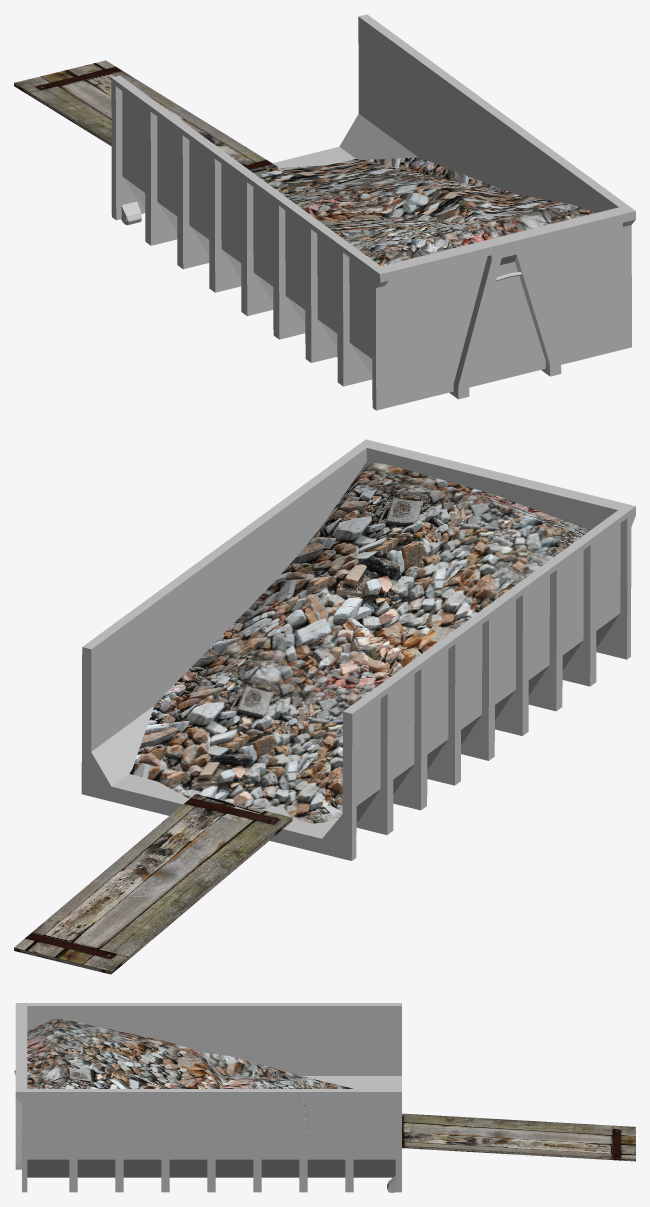
Rendered from DumpsterDirty01.FBX.
3 renders of one model, top to bottom at view 1: azimuth 30°, elevation 25°; view 2: azimuth 150°, elevation 25°; view 3: azimuth 270°, elevation 25°, orthographic. The views are drawn at different scales.
Parts seen in each view (by area): view 1: DumpsterDirty01, DumpsterDirty01Gravel, DumpsterDirty01Wood; view 2: DumpsterDirty01, DumpsterDirty01Gravel, DumpsterDirty01Wood; view 3: DumpsterDirty01, DumpsterDirty01Gravel, DumpsterDirty01Wood.
Boxes of the visible parts, x1,y1,x2,y2 form: DumpsterDirty01: (111, 14, 635, 410); DumpsterDirty01Gravel: (256, 157, 595, 265); DumpsterDirty01Wood: (14, 60, 277, 174); DumpsterDirty01: (81, 439, 635, 860); DumpsterDirty01Gravel: (129, 462, 589, 823); DumpsterDirty01Wood: (14, 794, 292, 974); DumpsterDirty01: (14, 1003, 401, 1192); DumpsterDirty01Gravel: (27, 1018, 352, 1088); DumpsterDirty01Wood: (402, 1113, 635, 1161).
Bounding box in the file's own units: 3499 × 1891 × 10240.
